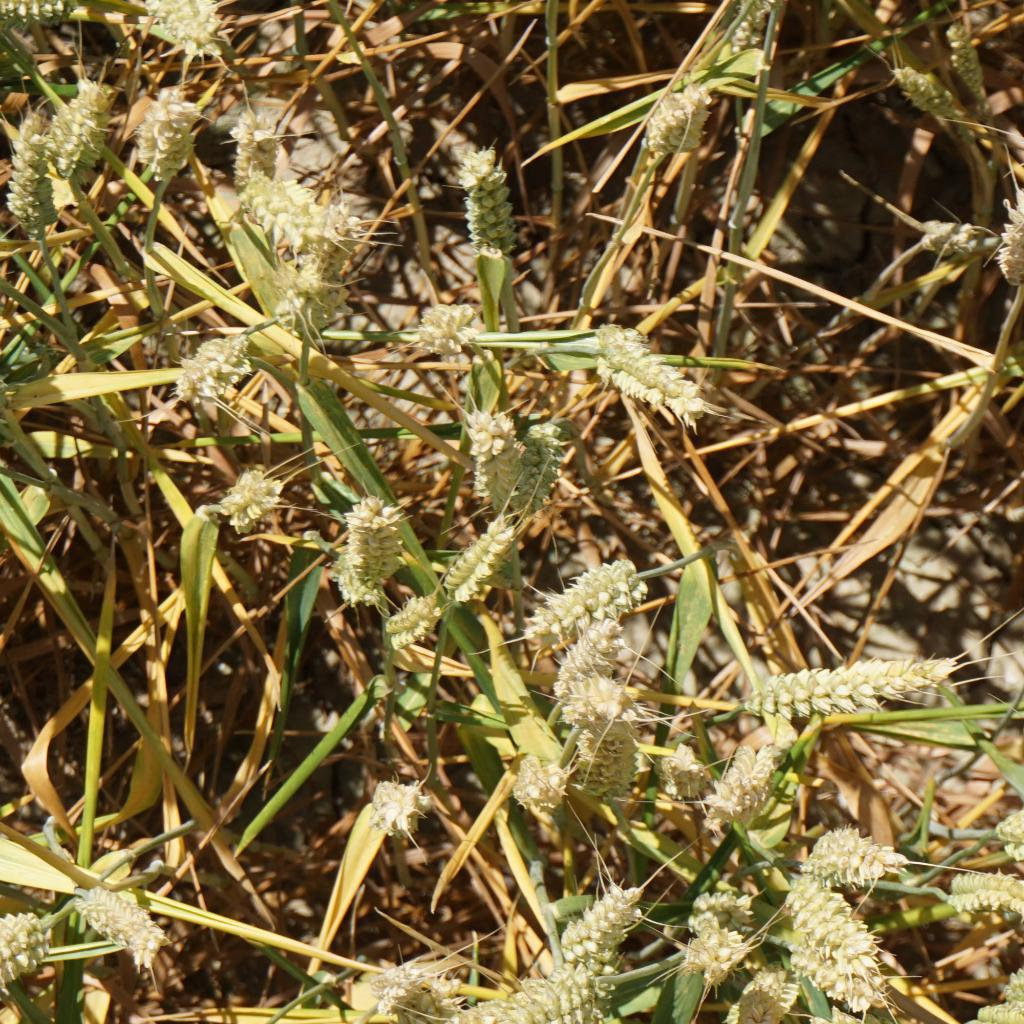0-0: (590, 326, 719, 438), (736, 655, 957, 712), (524, 559, 645, 640), (461, 973, 633, 1024), (450, 144, 523, 263), (422, 524, 521, 606), (786, 880, 871, 970), (68, 879, 161, 961), (703, 736, 783, 831), (459, 404, 526, 515), (46, 68, 110, 181), (543, 619, 624, 708), (808, 820, 911, 887), (4, 107, 61, 228), (557, 886, 641, 965), (132, 87, 201, 180), (569, 713, 643, 799), (638, 81, 715, 161), (345, 491, 399, 604), (302, 203, 368, 289), (792, 943, 877, 1008), (274, 252, 338, 336), (240, 170, 321, 236), (181, 325, 256, 396), (910, 200, 993, 262), (220, 105, 280, 188), (500, 745, 573, 813), (515, 421, 570, 510), (937, 873, 1024, 926), (146, 0, 227, 56), (897, 71, 969, 132), (361, 980, 457, 1024), (0, 905, 44, 992), (686, 918, 753, 974), (227, 468, 284, 532), (942, 14, 990, 90), (359, 952, 425, 1007), (370, 781, 431, 839), (726, 971, 792, 1024), (993, 191, 1024, 297), (411, 302, 466, 361), (724, 0, 790, 44), (388, 590, 434, 650), (673, 882, 743, 920), (0, 0, 82, 31), (659, 745, 702, 799), (807, 1004, 889, 1024), (1003, 803, 1024, 875), (972, 1001, 1024, 1024), (1006, 932, 1024, 997)
